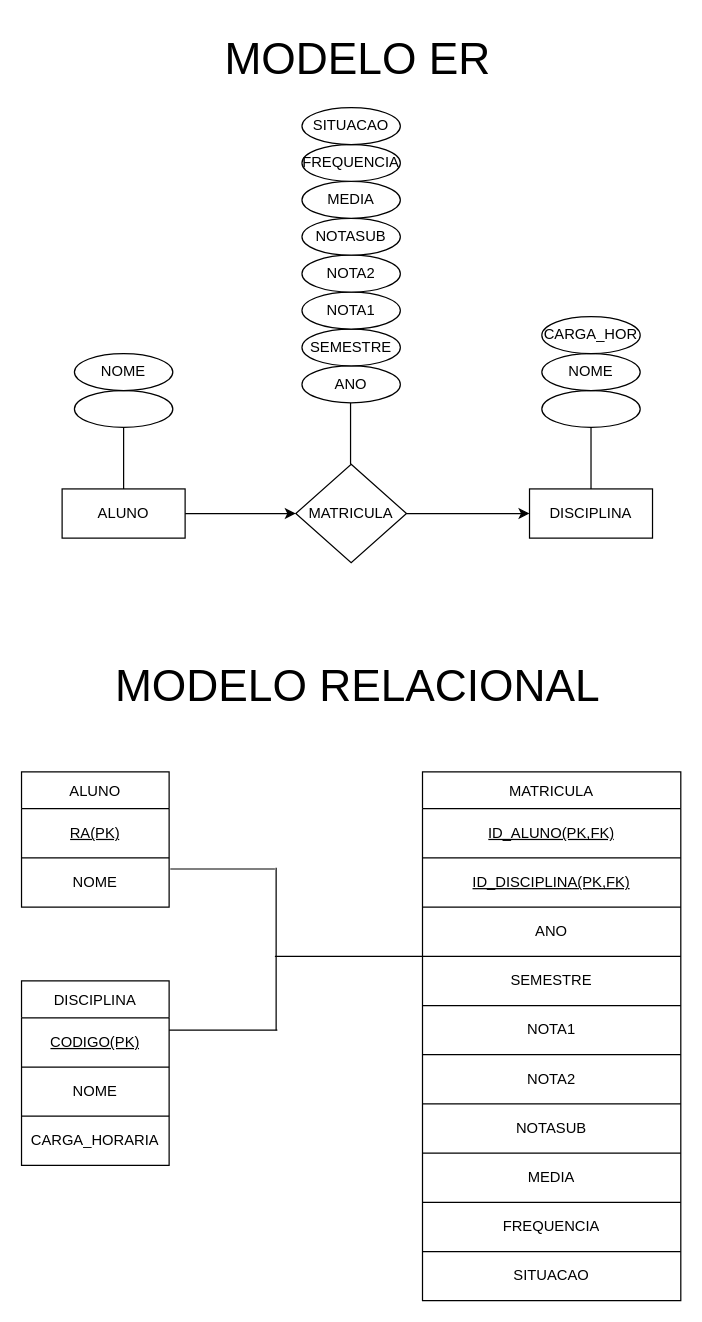
Some shapes in this 702 by 1322 pixel diagram are drawn without their labels. Here are the shapes that lost their labels. From the top down, the box of each, then its label:
(73, 389, 173, 427): RA
(541, 389, 640, 427): CODIGO
